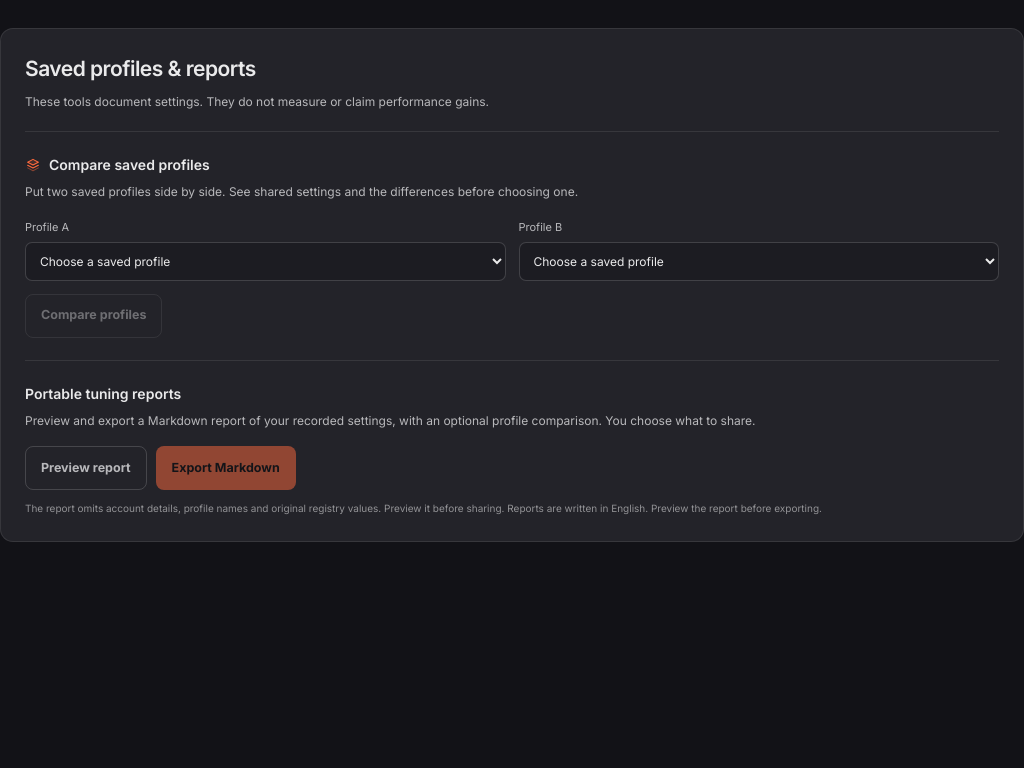
Test: LifetimeTools › compares the two chosen profiles and names the settings in each group
Select "Gaming" in the dropdown labelled "Profile A" at coordinates (265, 261), box x1=25 y1=242 x2=506 y2=281
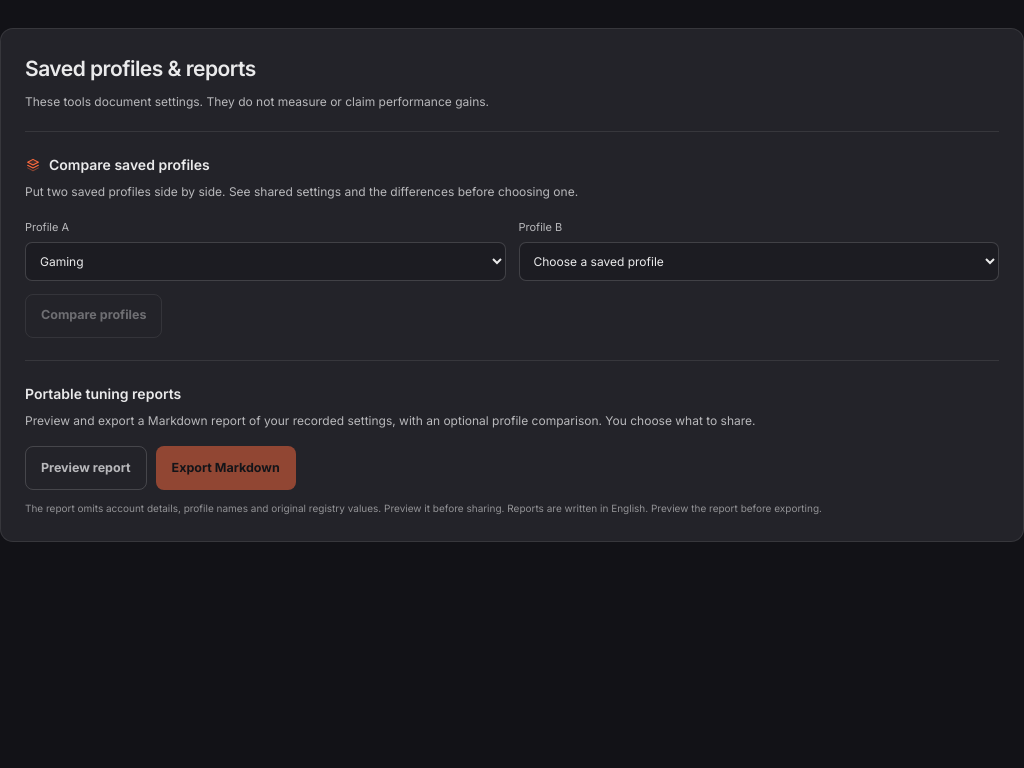
Select "Work" in the dropdown labelled "Profile B" at coordinates (759, 261), box x1=518 y1=242 x2=999 y2=281
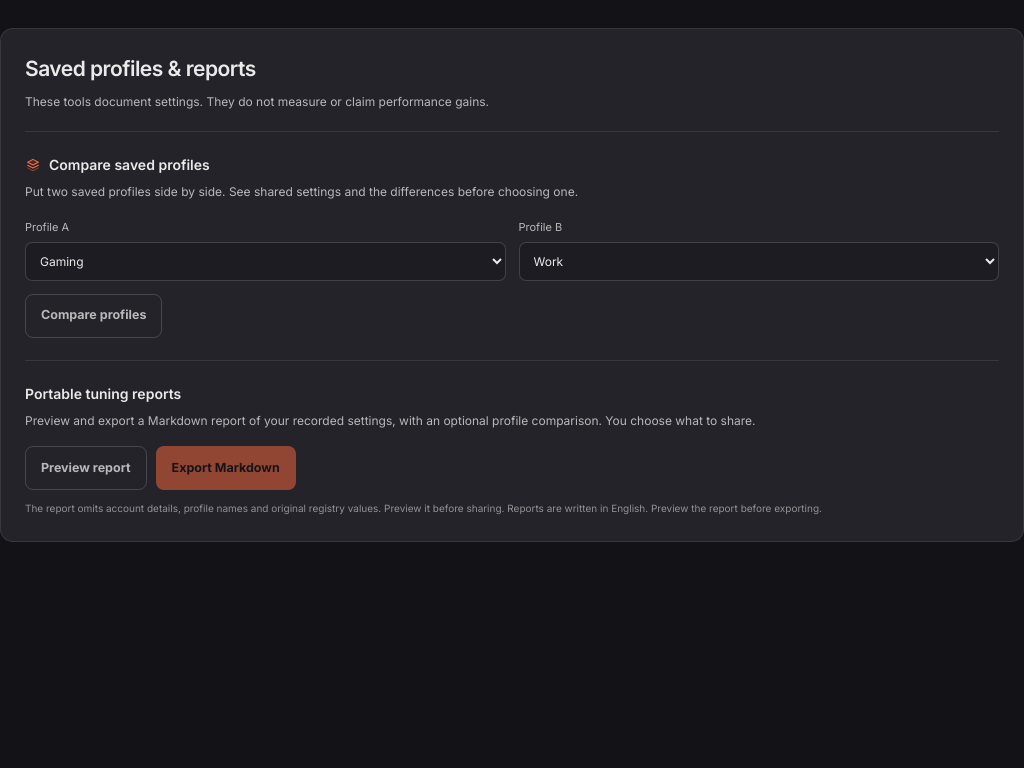
Click the button "Compare profiles" at coordinates (94, 316), box x1=25 y1=294 x2=162 y2=338
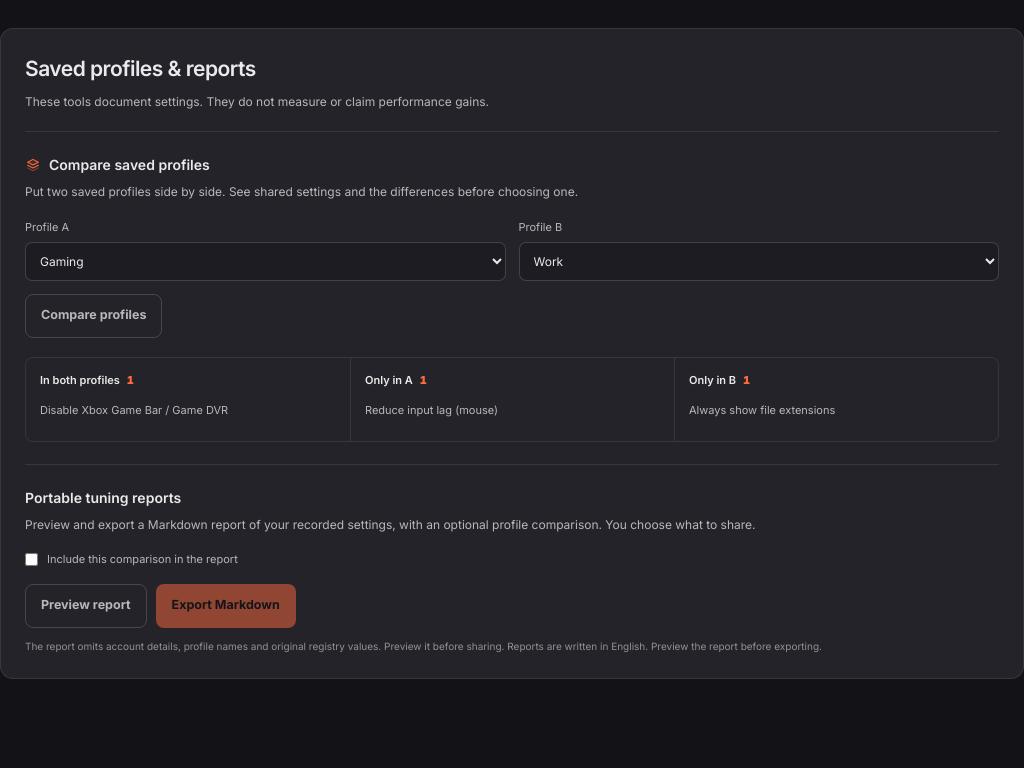
Expected: the heading "In both profiles 1" is shown, x1=40 y1=373 x2=134 y2=387
Expected: the list item "Disable Xbox Game Bar / Game DVR" is shown, x1=40 y1=403 x2=228 y2=417
Expected: the list item "Reduce input lag (mouse)" is shown, x1=365 y1=403 x2=498 y2=417
